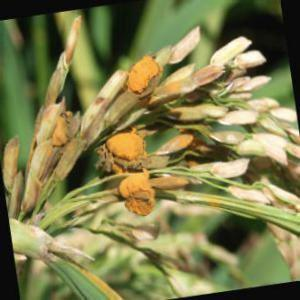Leaf_Scald: (104, 122, 157, 220), (156, 132, 198, 204), (126, 54, 154, 103)
